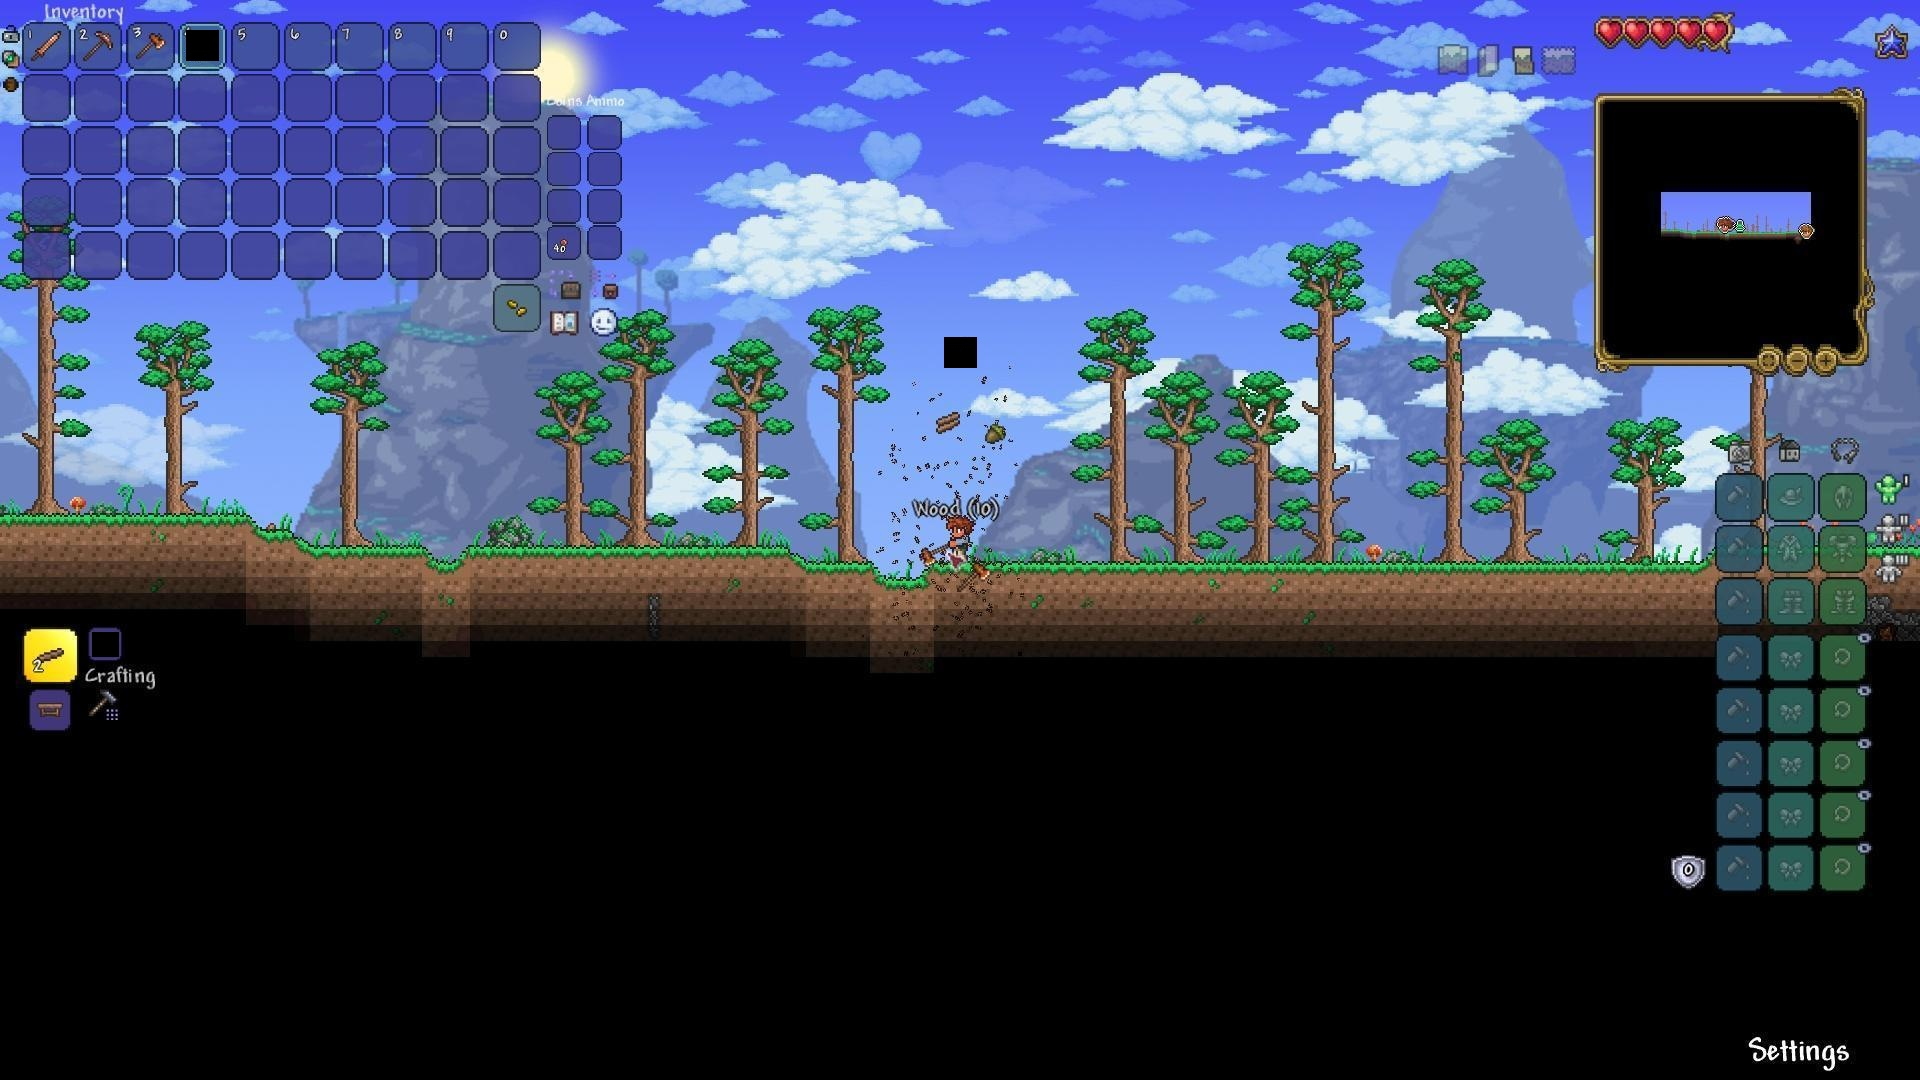wood: (932, 404, 964, 434)
workbench: (32, 698, 69, 723)
